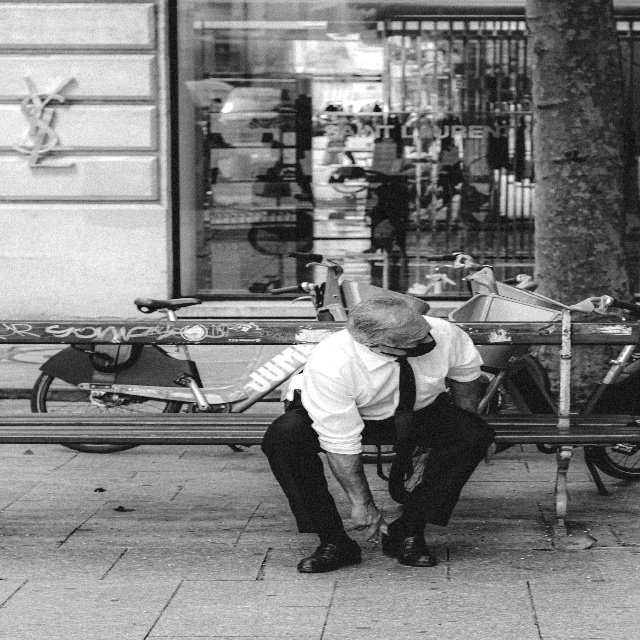Mascara: (379, 331, 436, 359)
Sin_guantes: (346, 495, 387, 541)
